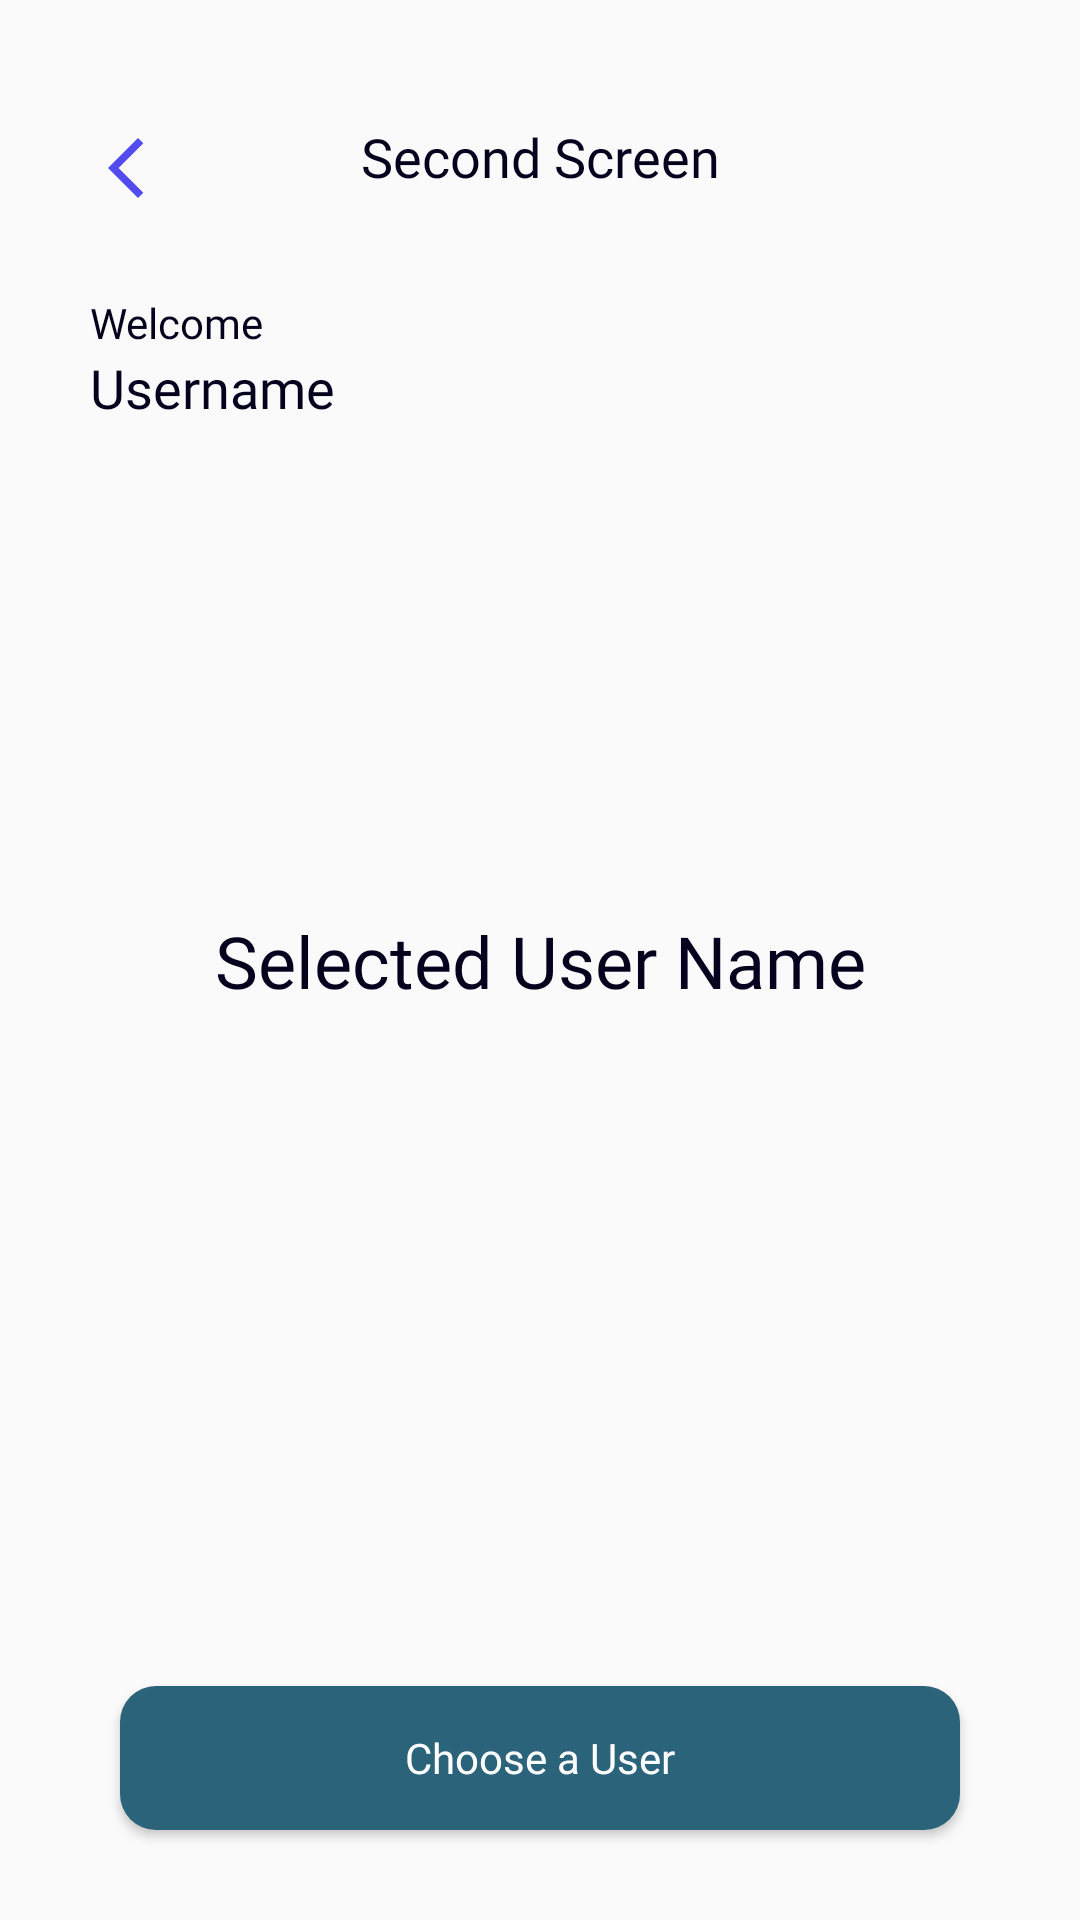

Point at icon controls on the screen. Image size 1080px x 1920px, points as [x,y].
back: [125,168]
